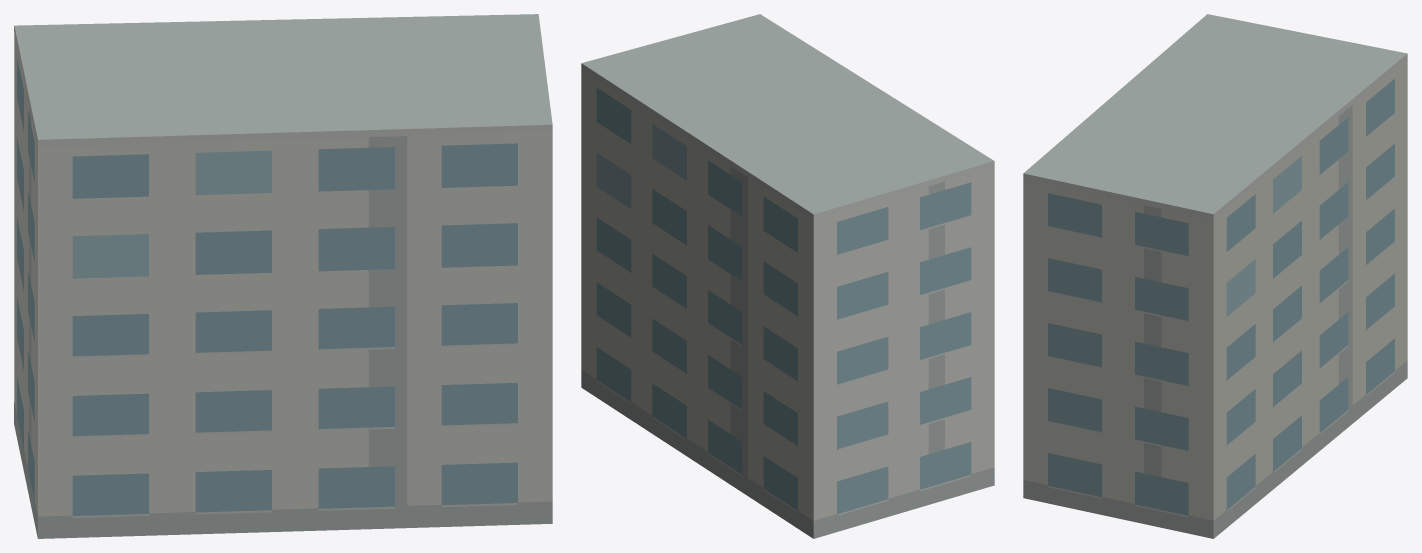
The model's file is survey-upis-32956883.glb.
The picture shows the model from 3 angles, left to right: view 1: azimuth 30°, elevation 25°; view 2: azimuth 150°, elevation 25°; view 3: azimuth 270°, elevation 25°; orthographic projection. The views are drawn at different scales.
Parts seen in each view (by area): view 1: survey-upis-32956883.tmp; view 2: survey-upis-32956883.tmp; view 3: survey-upis-32956883.tmp.
Boxes of the visible parts, bbox=[...] form: survey-upis-32956883.tmp: bbox=[14, 14, 552, 538]; survey-upis-32956883.tmp: bbox=[581, 14, 994, 538]; survey-upis-32956883.tmp: bbox=[1023, 14, 1407, 538].
Size of the model in its own units: 18.13 by 13.7 by 14.71.
